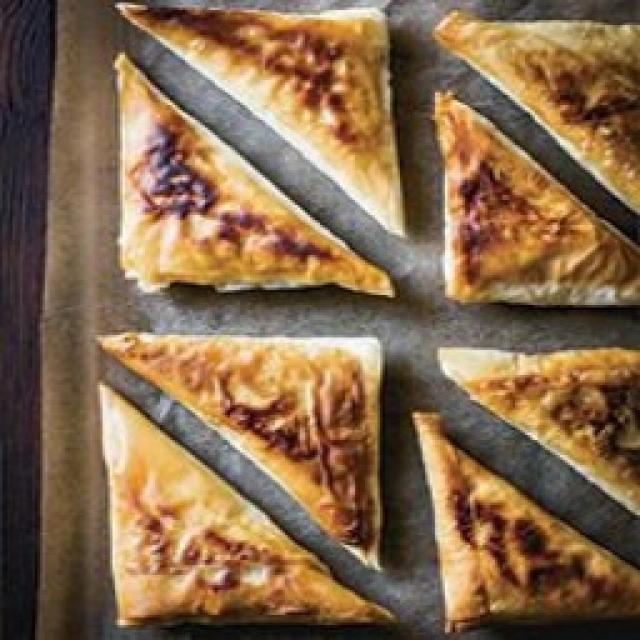Brik: (102, 390, 388, 623), (119, 57, 390, 294), (101, 334, 376, 564), (121, 7, 401, 231), (422, 415, 640, 629), (437, 95, 640, 304), (441, 12, 639, 208), (441, 351, 640, 511)
